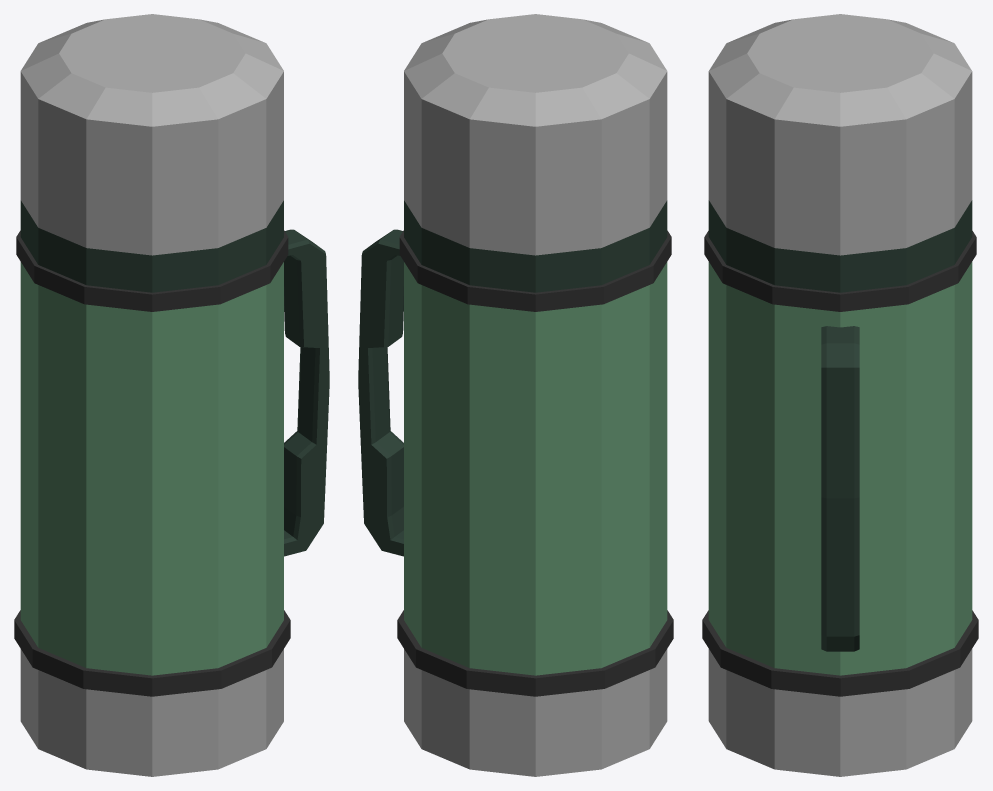
The model's file is Thermos_mat.fbx.
3 renders of one model, left to right at view 1: azimuth 30°, elevation 25°; view 2: azimuth 150°, elevation 25°; view 3: azimuth 270°, elevation 25°, orthographic.
Parts seen in each view (by area): view 1: Thermos_mat; view 2: Thermos_mat; view 3: Thermos_mat.
Boxes of the visible parts, bbox=[...] form: Thermos_mat: bbox=[14, 14, 329, 776]; Thermos_mat: bbox=[358, 14, 673, 776]; Thermos_mat: bbox=[702, 14, 978, 776].
Bounding box in the file's own units: 12.7 × 28.02 × 10.51.
